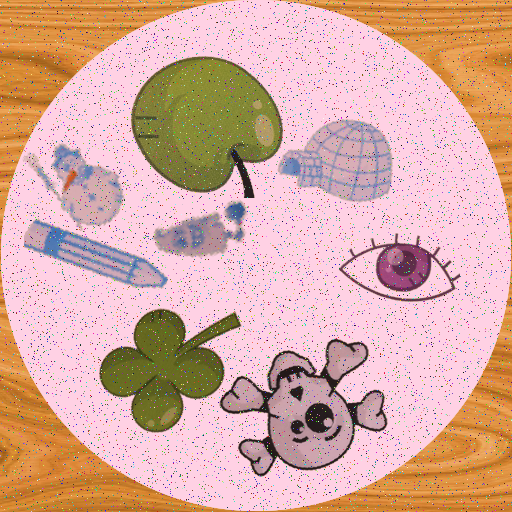apple_icon: (129, 36, 291, 198)
cloverleaf_icon: (99, 299, 251, 451)
eye_icon: (339, 211, 460, 332)
ghost_icon: (151, 181, 252, 282)
igloo_icon: (275, 105, 395, 225)
pen_icon: (24, 186, 168, 330)
skull_icon: (209, 319, 396, 506)
snowman_icon: (17, 131, 125, 239)
